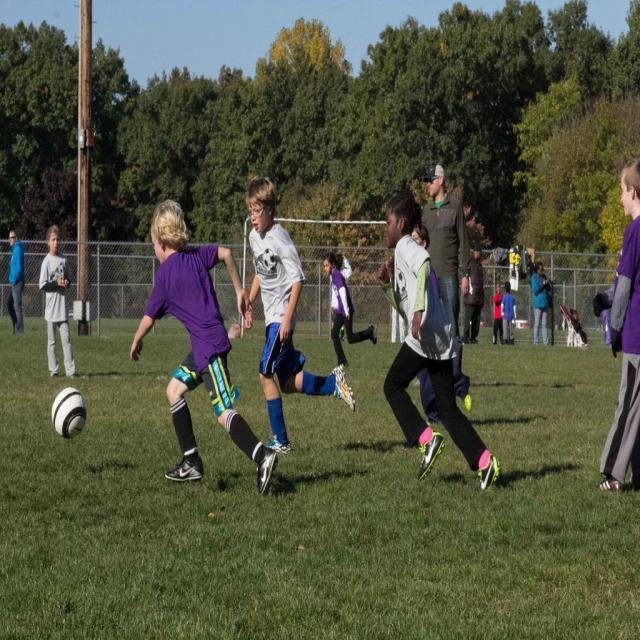football: (38, 379, 106, 454)
